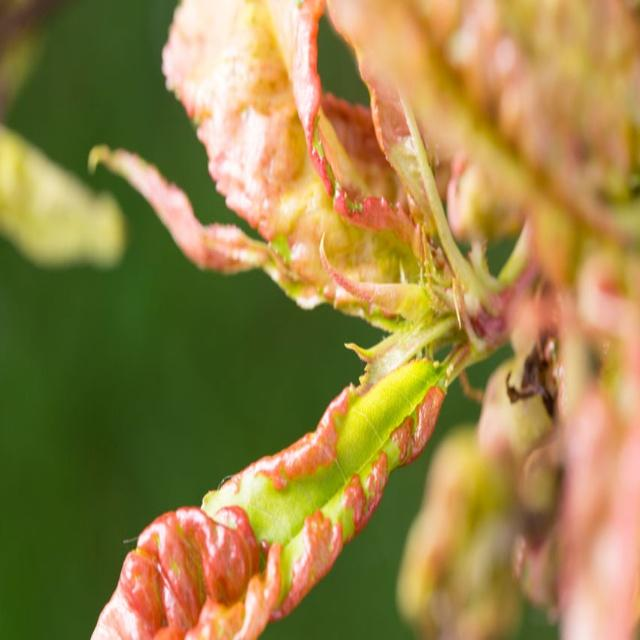leaf_curl: (78, 331, 456, 640), (62, 0, 407, 299)
